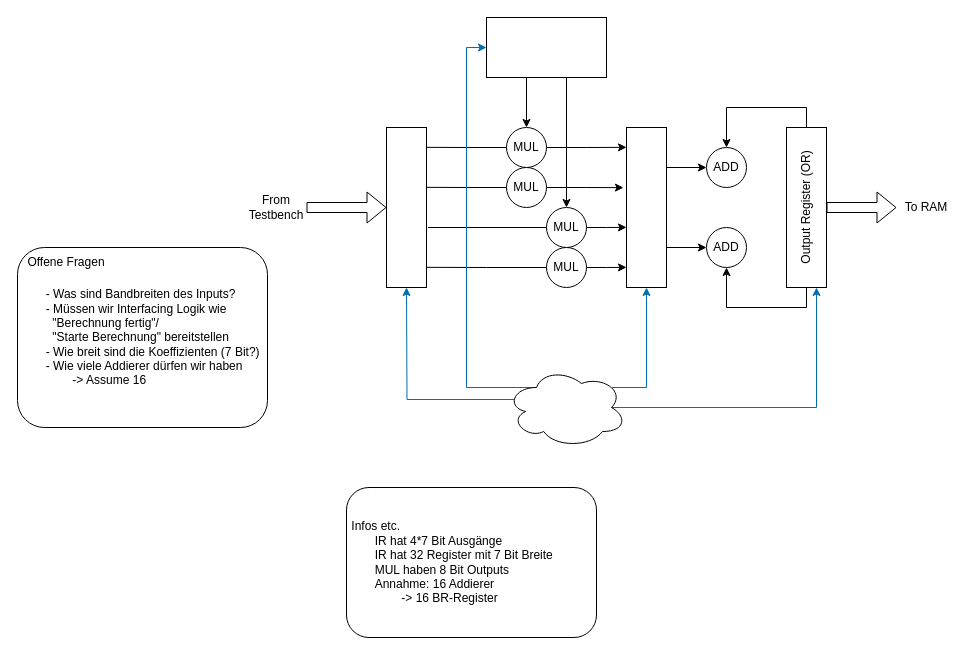
Image size: 974x655. Some labels were removed from this diagram. The shapes that lost their labels are listed below. From the top down, each one's centre as x and y in pixels, then its label:
point (546, 47): ROM
point (406, 207): Input Register (IR)
point (646, 207): Buffer Register (BR)
point (566, 407): Control
